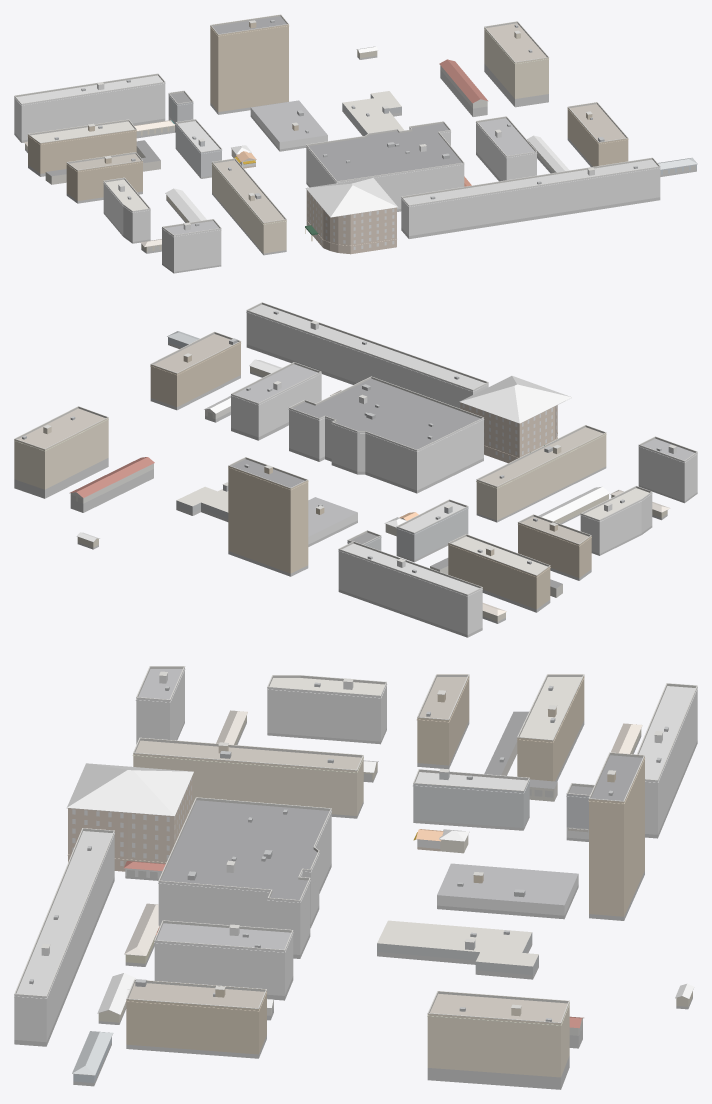
File: bld_-2_-1.dae
The picture shows the model from 3 angles, top to bottom: view 1: azimuth 30°, elevation 25°; view 2: azimuth 150°, elevation 25°; view 3: azimuth 270°, elevation 25°; orthographic projection. The views are drawn at different scales.
Parts seen in each view (by area): view 1: blda1783; view 2: blda1783; view 3: blda1783.
Boxes of the visible parts, box(x1,y1,x2,y2) form: blda1783: box(14, 14, 697, 273); blda1783: box(14, 302, 697, 637); blda1783: box(14, 666, 697, 1089).
Bounding box in the file's own units: 270 × 214 × 47.51.
